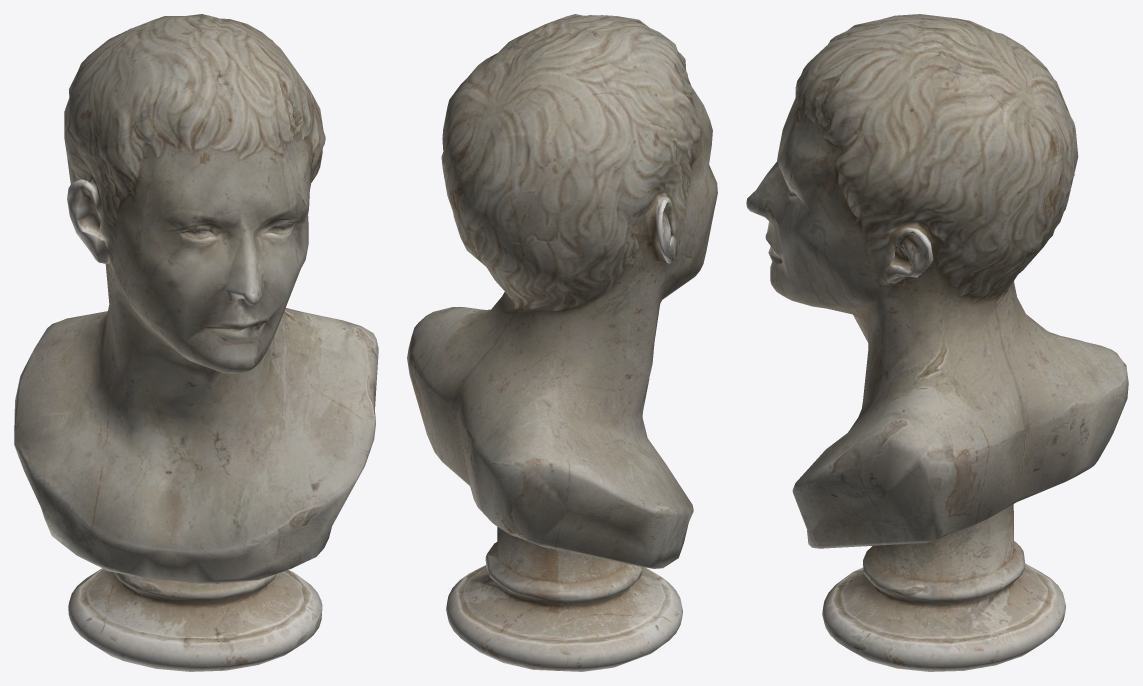
The model's file is marble_bust_01.glb.
3 views of the same model, side by side, from view 1: azimuth 30°, elevation 25°; view 2: azimuth 150°, elevation 25°; view 3: azimuth 270°, elevation 25° (orthographic). The views are drawn at different scales.
Parts seen in each view (by area): view 1: marble_bust_01; view 2: marble_bust_01; view 3: marble_bust_01.
Part boxes in pixels (bbox=[...]): marble_bust_01: bbox=[14, 14, 378, 671]; marble_bust_01: bbox=[407, 14, 717, 671]; marble_bust_01: bbox=[746, 14, 1128, 671].
Bounding box in the file's own units: 0.2717 × 0.5148 × 0.2997.
1 material, 1 textured.
